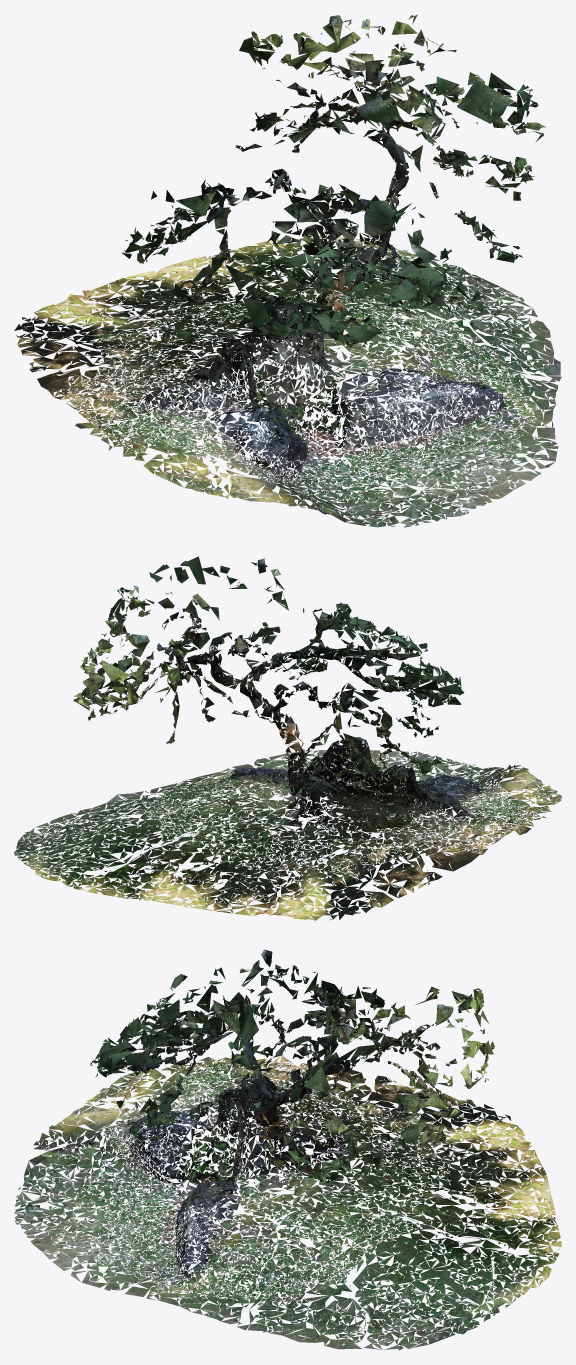
Rendered from pine2.glb.
The picture shows the model from 3 angles, top to bottom: view 1: azimuth 30°, elevation 25°; view 2: azimuth 150°, elevation 25°; view 3: azimuth 270°, elevation 25°; orthographic projection. The views are drawn at different scales.
Parts seen in each view (by area): view 1: Object_2; view 2: Object_2; view 3: Object_2.
Part boxes in pixels (x1,y1,x2,y2): Object_2: (14,14,561,527); Object_2: (14,556,561,920); Object_2: (14,949,561,1350).
Size of the model in its own units: 38.63 by 23.62 by 38.17.
1 material, 1 textured.
